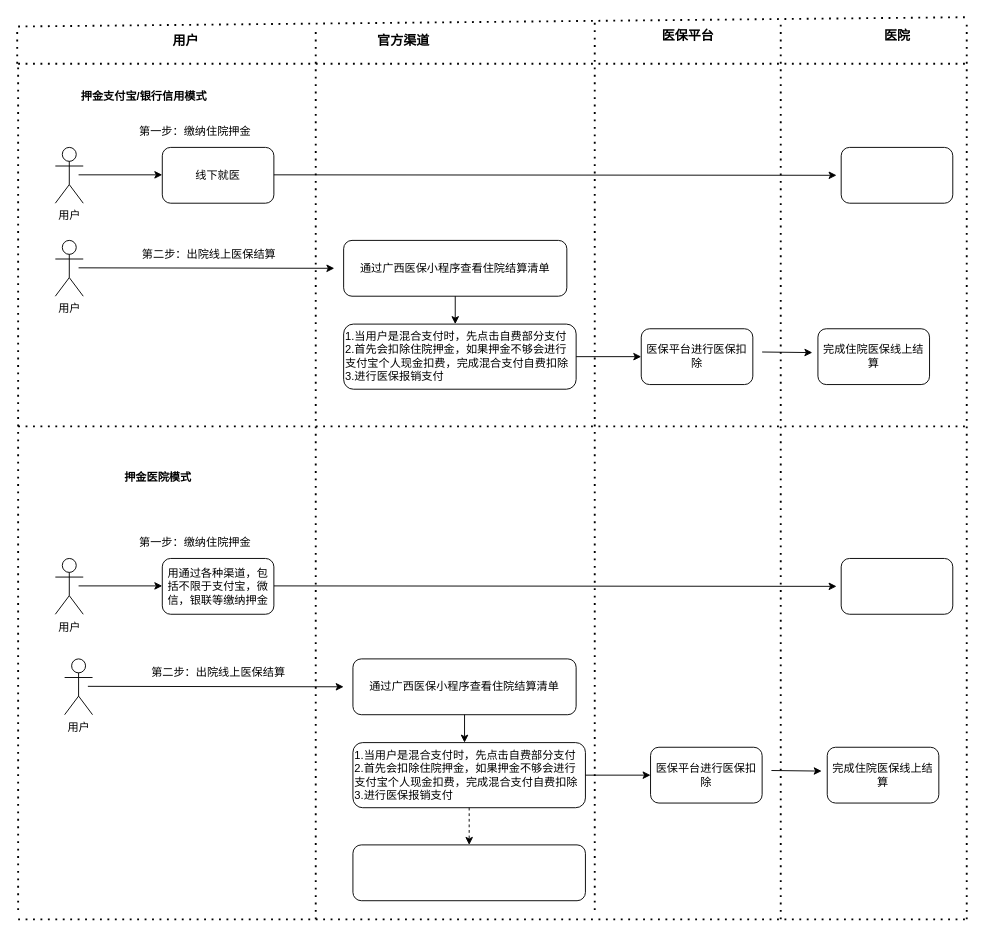
This 988x937 diagram has some shape labels left out. Here are the shapes that lost their labels. From the top down, the box of each, then its label:
(840, 146, 953, 203): 通过支付宝授信获取额度，缴纳医院押金，押金自动进入到医院商户
(840, 558, 953, 614): 缴纳医院押金，押金自动进入到医院商户
(352, 844, 585, 901): 1.广西医保通过技术手段自动调用用户住院押金进行出院结算，通过调用医院银联API进行用户押金扣除
